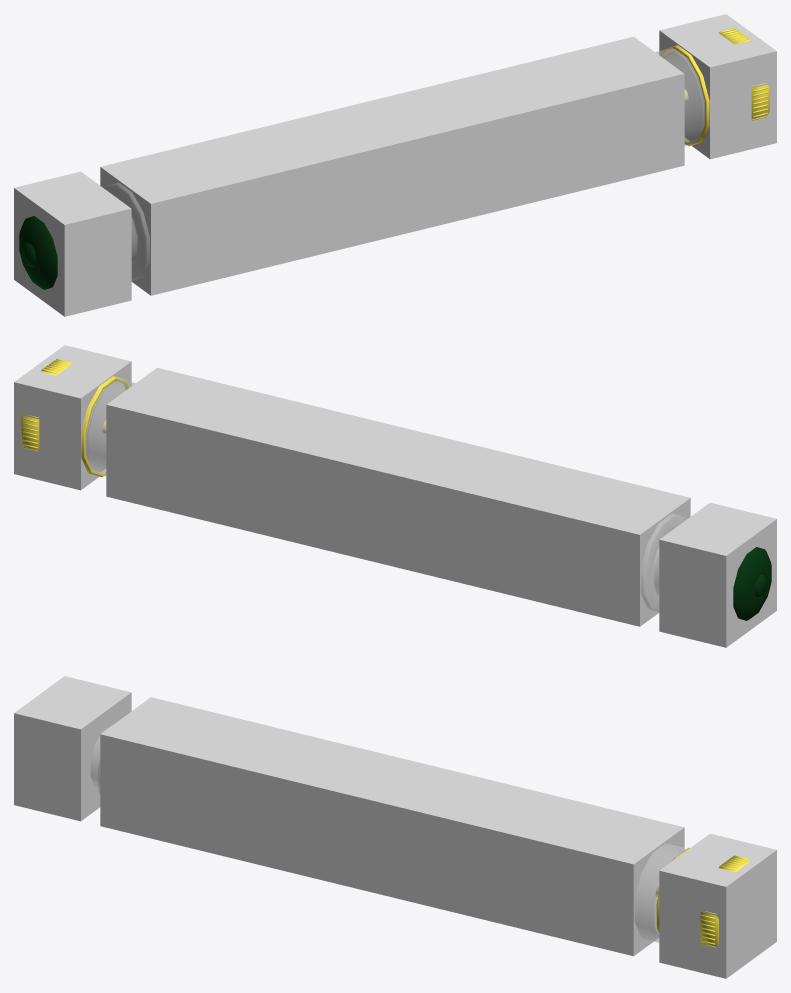
Rendered from 112021_AutoinjectorPralidoxime_Rigged_ver02.fbx.
The picture shows the model from 3 angles, top to bottom: view 1: azimuth 30°, elevation 25°; view 2: azimuth 150°, elevation 25°; view 3: azimuth 330°, elevation 25°; orthographic projection.
Parts seen in each view (by area): view 1: Collide_01, Collide_01.002, Collide_01.001, LAbel_01, AutoinjectorATNAA01, AutoinjectorATNAA03; view 2: Collide_01, Collide_01.002, Collide_01.001, LAbel_01, AutoinjectorATNAA01, AutoinjectorATNAA03; view 3: Collide_01, Collide_01.001, Collide_01.002, LAbel_01, AutoinjectorATNAA03.
Part boxes in pixels (box(x1,y1,x2,y2)): Collide_01: box(100, 36, 684, 295); Collide_01.002: box(14, 171, 131, 316); Collide_01.001: box(659, 14, 776, 159); LAbel_01: box(104, 48, 704, 280); AutoinjectorATNAA01: box(19, 216, 57, 289); AutoinjectorATNAA03: box(661, 28, 769, 146); Collide_01: box(106, 367, 690, 626); Collide_01.002: box(659, 502, 776, 647); Collide_01.001: box(14, 345, 131, 490); LAbel_01: box(86, 379, 686, 611); AutoinjectorATNAA01: box(733, 547, 771, 620); AutoinjectorATNAA03: box(21, 359, 129, 477); Collide_01: box(100, 697, 684, 956); Collide_01.001: box(659, 833, 776, 978); Collide_01.002: box(14, 676, 131, 821); LAbel_01: box(91, 712, 686, 942); AutoinjectorATNAA03: box(655, 847, 750, 947).
Size of the model in its own units: 14.3 by 1.83 by 1.83.
